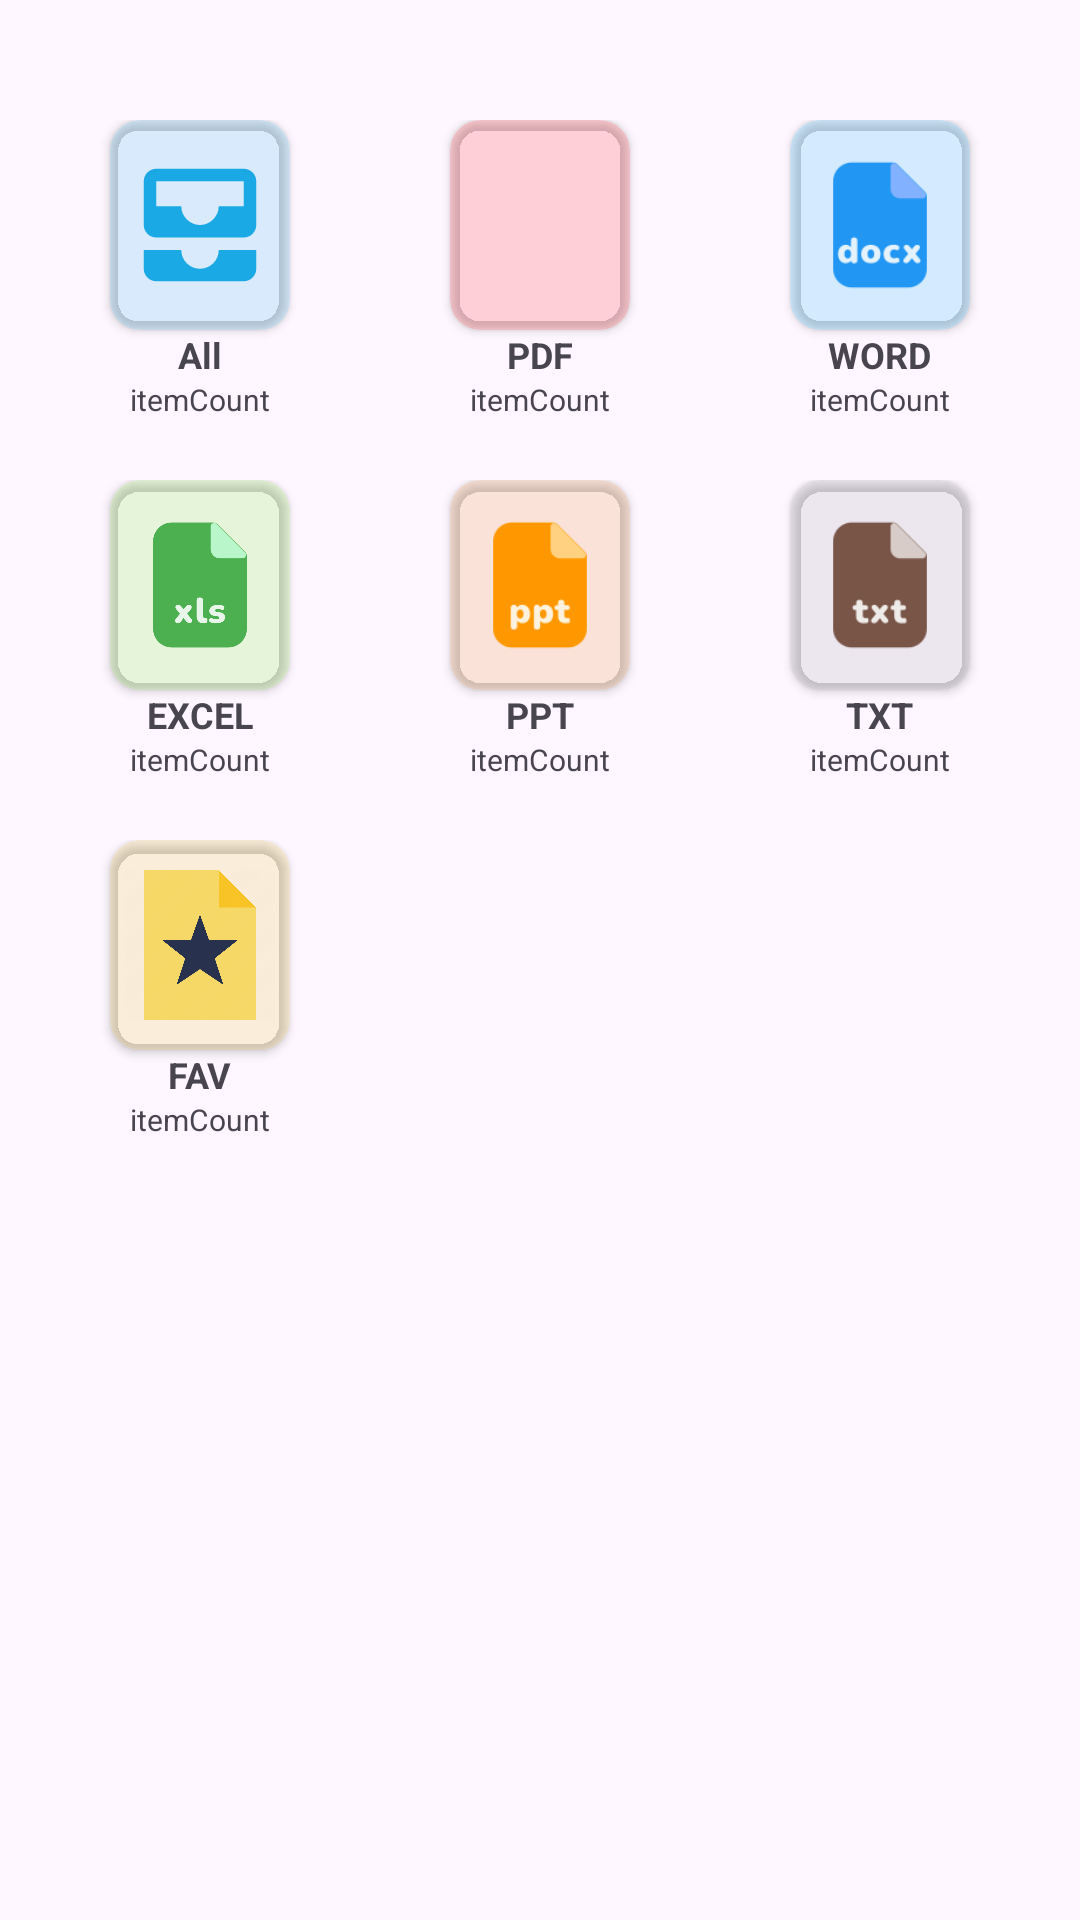

Named icons in this screenshot (1080x1920) and their bounding boxes, (x1, y1, x2, y2):
doc all: (143, 168, 257, 282)
